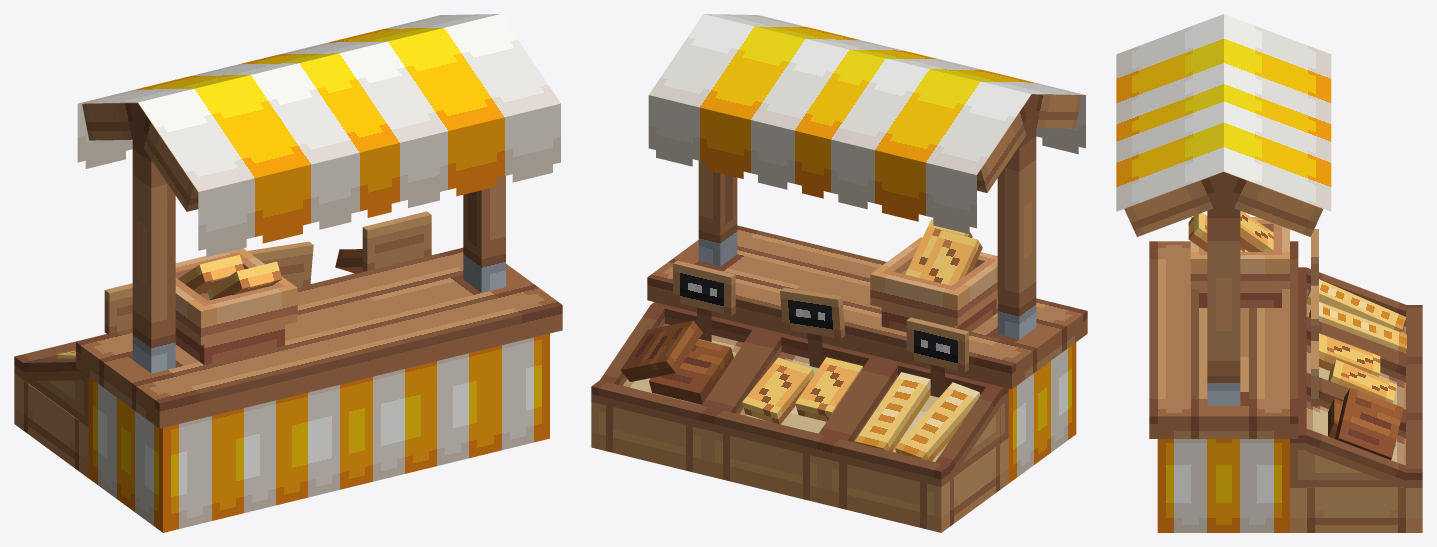
File: bread-stall.gltf
The picture shows the model from 3 angles, left to right: view 1: azimuth 30°, elevation 25°; view 2: azimuth 150°, elevation 25°; view 3: azimuth 270°, elevation 25°; orthographic projection. The views are drawn at different scales.
Visible parts, largest first — view 1: cube (×23); view 2: cube (×43); view 3: cube (×38).
Boxes of the visible parts, x1,y1,x2,y2 form: cube (×23): (14,14,562,532); cube (×43): (591,14,1087,532); cube (×38): (1116,14,1422,532).
Size of the model in its own units: 2.34 by 2.22 by 1.73.
2 materials, 2 textured.
